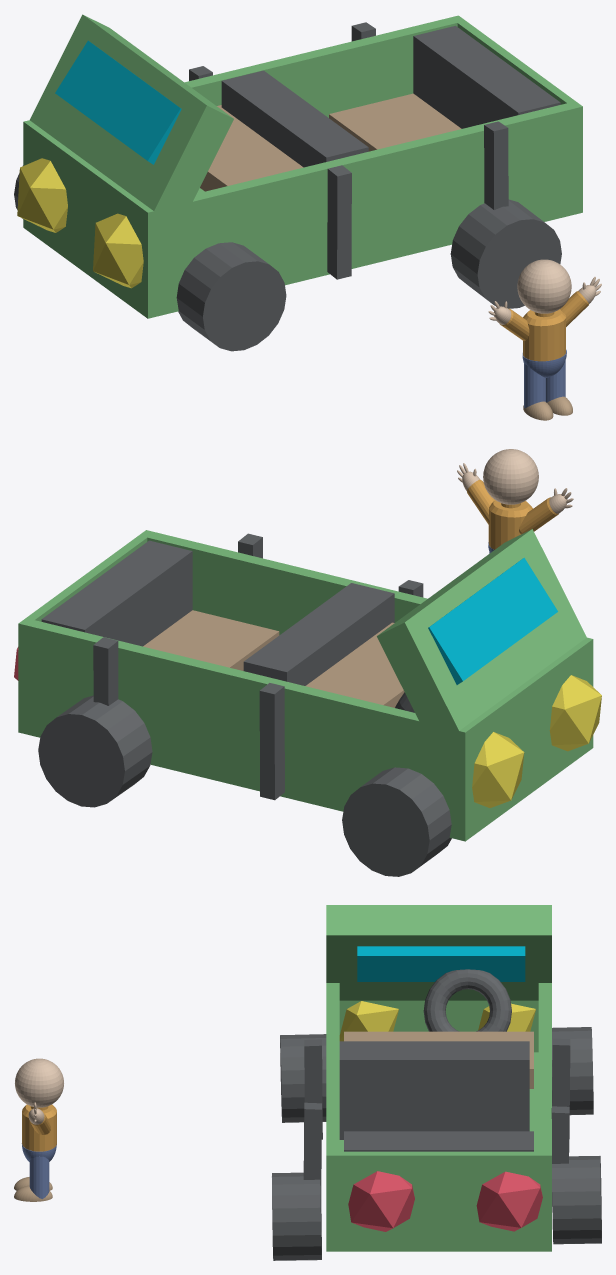
File: Smashing Fyyran.glb
3 renders of one model, top to bottom at view 1: azimuth 30°, elevation 25°; view 2: azimuth 150°, elevation 25°; view 3: azimuth 270°, elevation 25°, orthographic. The views are drawn at different scales.
Visible parts, largest first — view 1: Mesh_Mesh_head_geo.001_lambert2SG.001; view 2: Mesh_Mesh_head_geo.001_lambert2SG.001; view 3: Mesh_Mesh_head_geo.001_lambert2SG.001.
Boxes of the visible parts, left/top/right/bottom form: Mesh_Mesh_head_geo.001_lambert2SG.001: left=14, top=14, right=601, bottom=420; Mesh_Mesh_head_geo.001_lambert2SG.001: left=14, top=449, right=601, bottom=876; Mesh_Mesh_head_geo.001_lambert2SG.001: left=14, top=905, right=601, bottom=1260.
Size of the model in its own units: 114 by 56.59 by 133.
